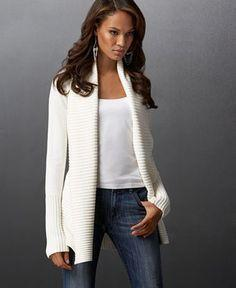S_cardigan sweater: (43, 59, 171, 252)
